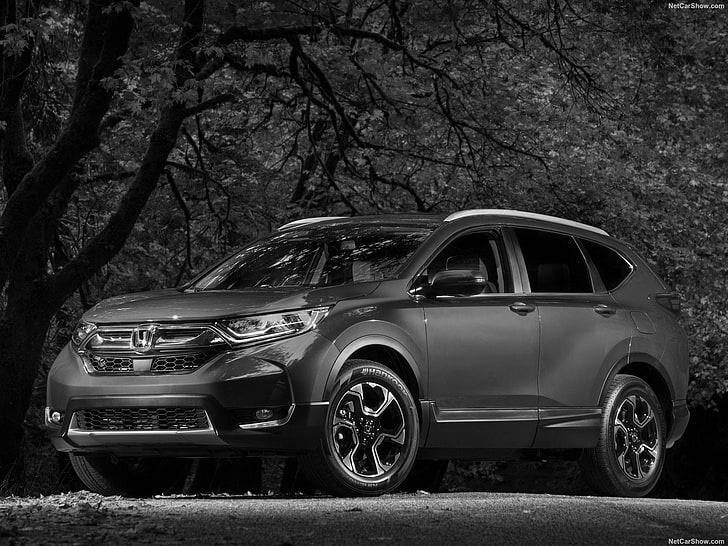Car hood: (76, 279, 386, 327)
Fender - -F-L-: (309, 268, 428, 446)
Fender - -R-L-: (616, 280, 676, 376)
Front bumper: (32, 339, 339, 464)
Headlight - -L-: (204, 301, 337, 354)
Headlight - -R-: (67, 313, 101, 351)
Passenger-s door - -F-L-: (429, 220, 538, 428)
Passenger-s door - -R-L-: (539, 223, 632, 429)
Rear bumper: (660, 329, 702, 453)
Rear light - -L-: (650, 279, 685, 320)
Side bumper - -L-: (408, 396, 608, 455)
Side mirror - -L-: (411, 265, 489, 303)
